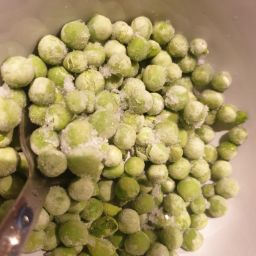Peas: (9, 12, 245, 256), (27, 25, 211, 203), (24, 146, 246, 256), (50, 49, 186, 228)
